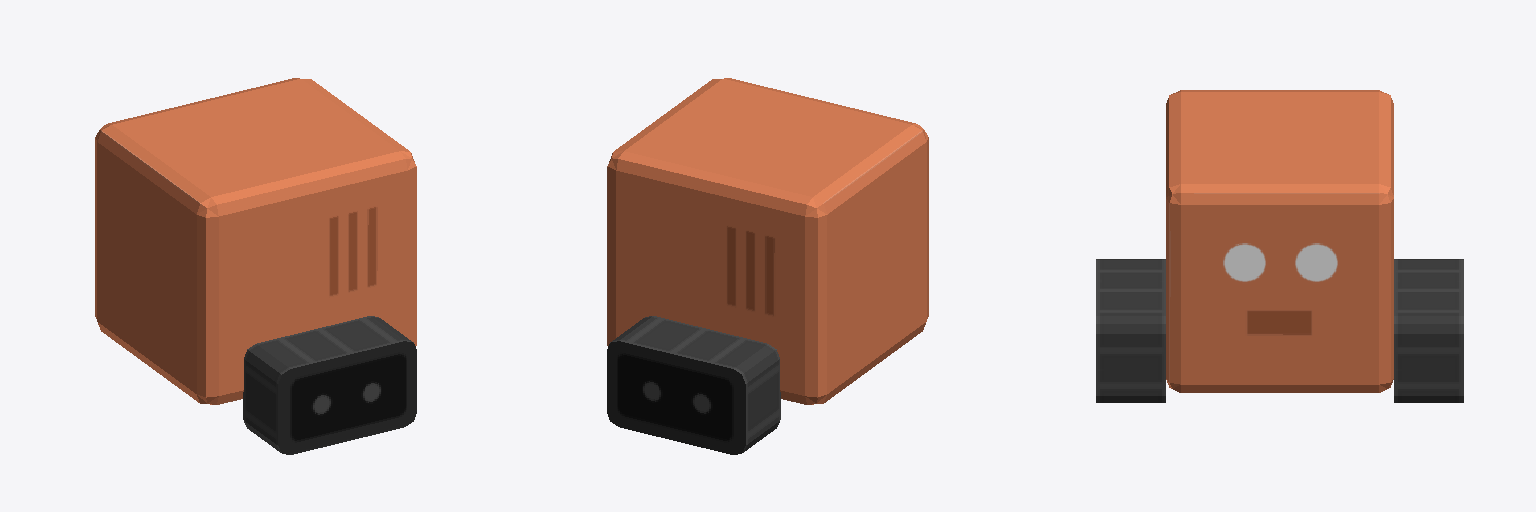
3 renders of one model, left to right at view 1: azimuth 30°, elevation 25°; view 2: azimuth 150°, elevation 25°; view 3: azimuth 270°, elevation 25°, orthographic.
Parts seen in each view (by area): view 1: Mesh group4 polySurface1 group5; view 2: Mesh group4 polySurface1 group5; view 3: Mesh group4 polySurface1 group5.
Boxes of the visible parts, x1,y1,x2,y2 form: Mesh group4 polySurface1 group5: [95, 78, 416, 454]; Mesh group4 polySurface1 group5: [607, 78, 928, 454]; Mesh group4 polySurface1 group5: [1096, 90, 1463, 402].
Size of the model in its own units: 2.2 by 2.28 by 3.21.
1 materials, 1 textured.